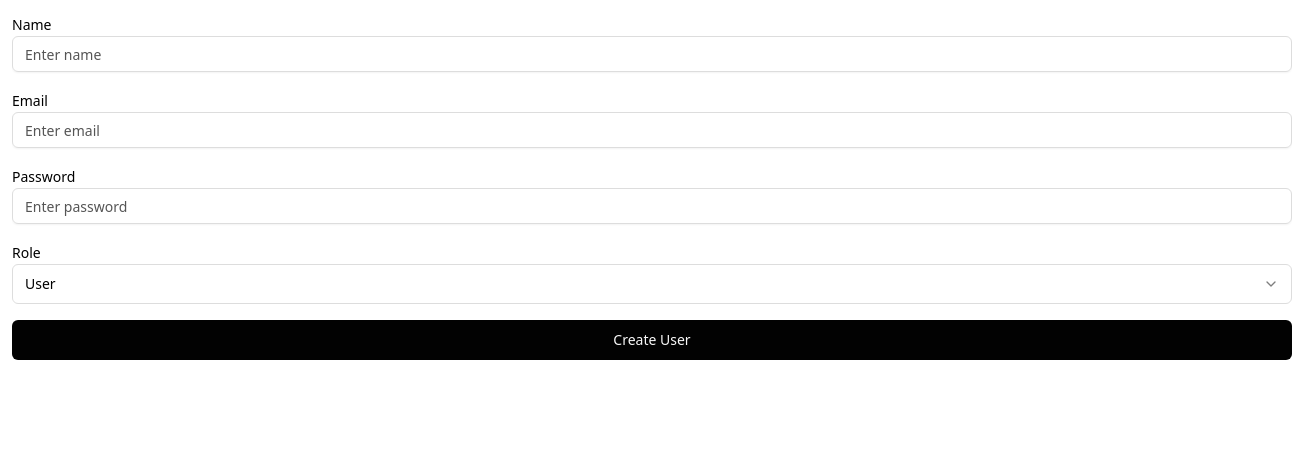
Scenario: CreateUserForm › shows validation errors for empty fields
Clear the name field (it starts empty, but we need to trigger validation)
Click the button "Create User": [652, 340] box top-left (12, 320), bottom-right (1292, 360)
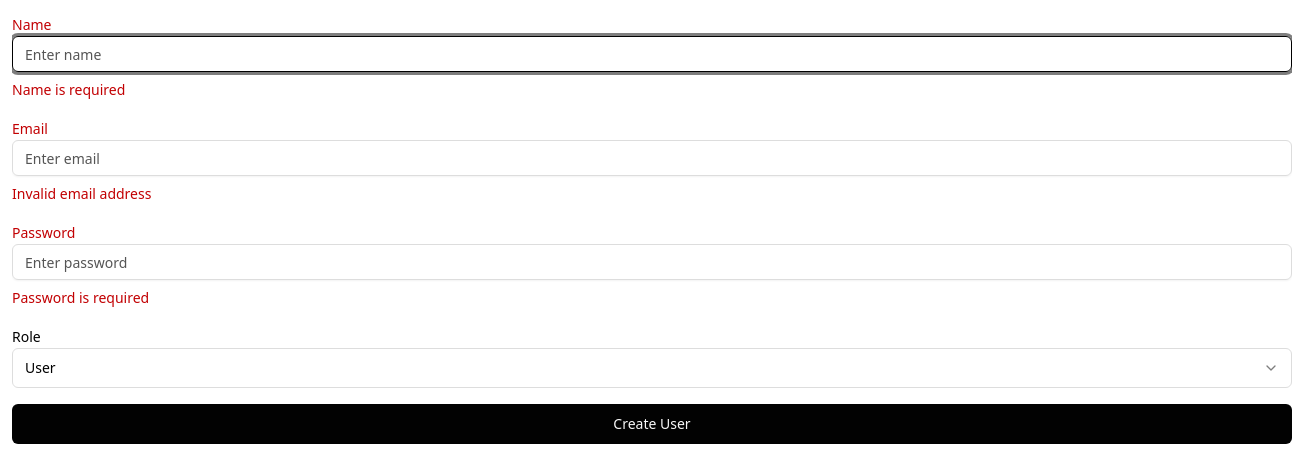
Check: the text "Name is required" is shown, box top-left (12, 80), bottom-right (125, 99)
